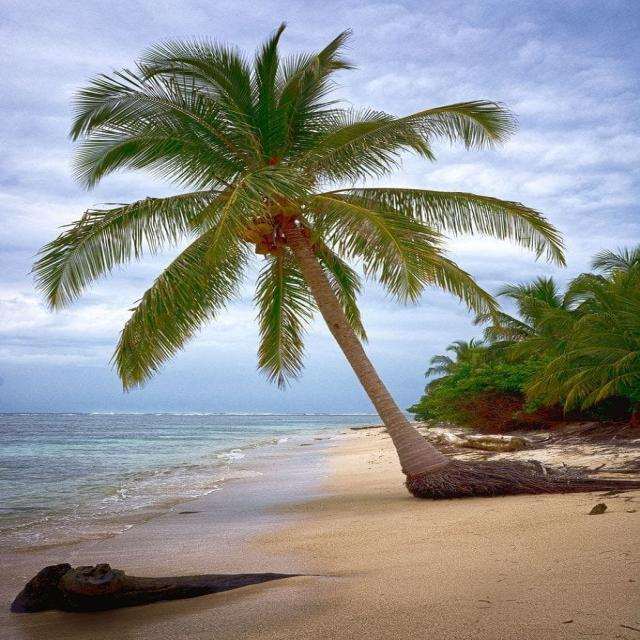Coconut-tree: (46, 51, 611, 575), (154, 80, 459, 420)
